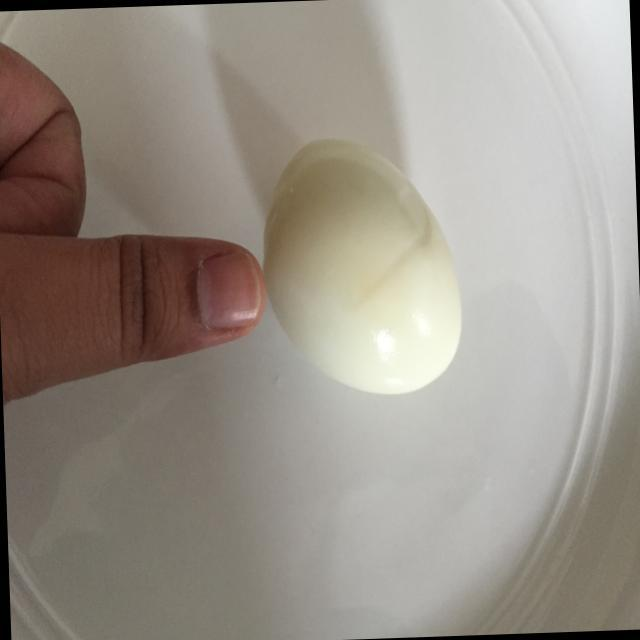Egg: (255, 130, 480, 406)
Finger: (102, 219, 270, 384)
